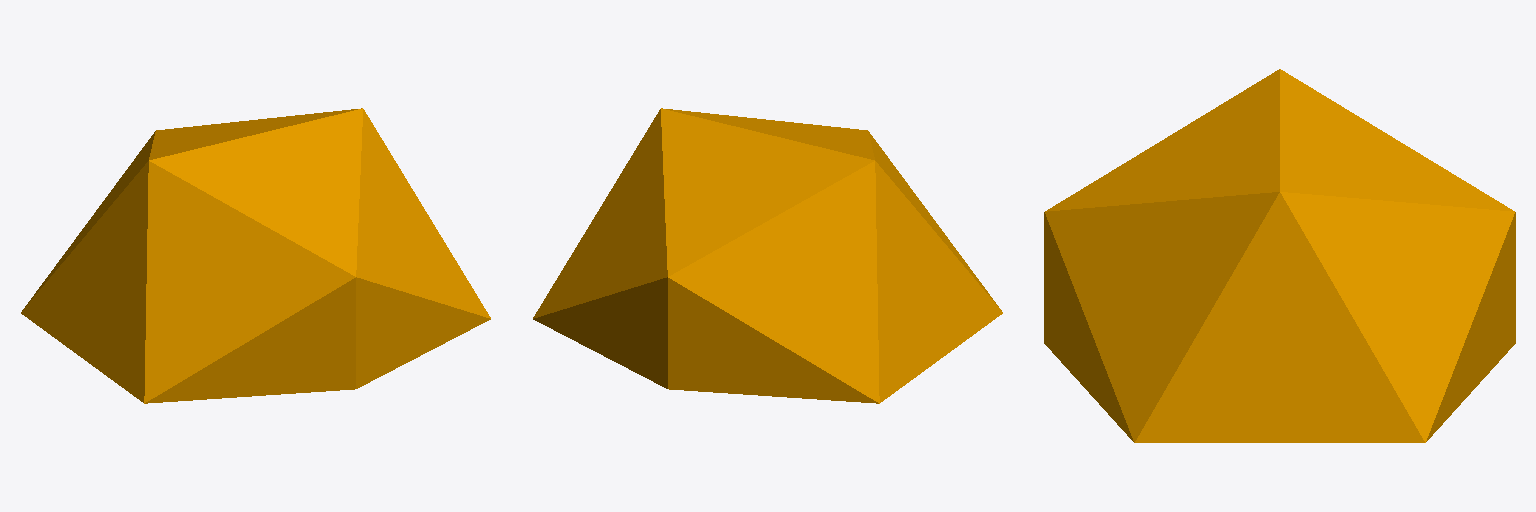
The robot description file, URDF, robot "half_icosahedron":
<?xml version="1.0" ?>
<robot xmlns:xacro="http://www.ros.org/wiki/xacro" name="half_icosahedron">

    <link name="half_icosahedron">
        <inertial>
            <origin xyz="0.0 0.0 0.0" rpy="0 0 0"/>
            <mass value="2.4"/>
            <inertia ixx="0.05" ixy="0.0" ixz="0.0" iyy="0.05" iyz="0.0" izz="0.1"/>
        </inertial>

        <visual>
            <origin xyz="0.0 0.0 0.0" rpy="0.0 0.0 0.0"/>
            <geometry>
                <mesh filename="./meshes/half_icosahedron/half_icosahedron.obj" scale="1 1 1"/>
            </geometry>
        </visual>

        <collision>
            <origin xyz="0.0 0.0 0.0" rpy="0.0 0.0 0.0"/>
            <geometry>
                <mesh filename="./meshes/half_icosahedron/half_icosahedron.obj" scale="1 1 1"/>
            </geometry>
        </collision>
    </link>

</robot>

--- Facts derived from the render (not from the file) ---
Views: 3 orthographic renders of the robot side by side, from view 1: azimuth 30°, elevation 25°; view 2: azimuth 150°, elevation 25°; view 3: azimuth 270°, elevation 25°.
Robot: half_icosahedron — 1 links, 0 joints (none); root link half_icosahedron; default pose: all joints at 0.
Links seen in each view (by area): view 1: half_icosahedron; view 2: half_icosahedron; view 3: half_icosahedron.
Boxes of the visible links, x1,y1,x2,y2 form: half_icosahedron: [21, 108, 490, 403]; half_icosahedron: [533, 108, 1002, 403]; half_icosahedron: [1044, 69, 1515, 442].
Size in the robot's own frame: 0.0809 by 0.0809 by 0.0405 metres.
Meshes: 1 distinct files referenced, 1 mesh visuals loaded (1 OBJ).
